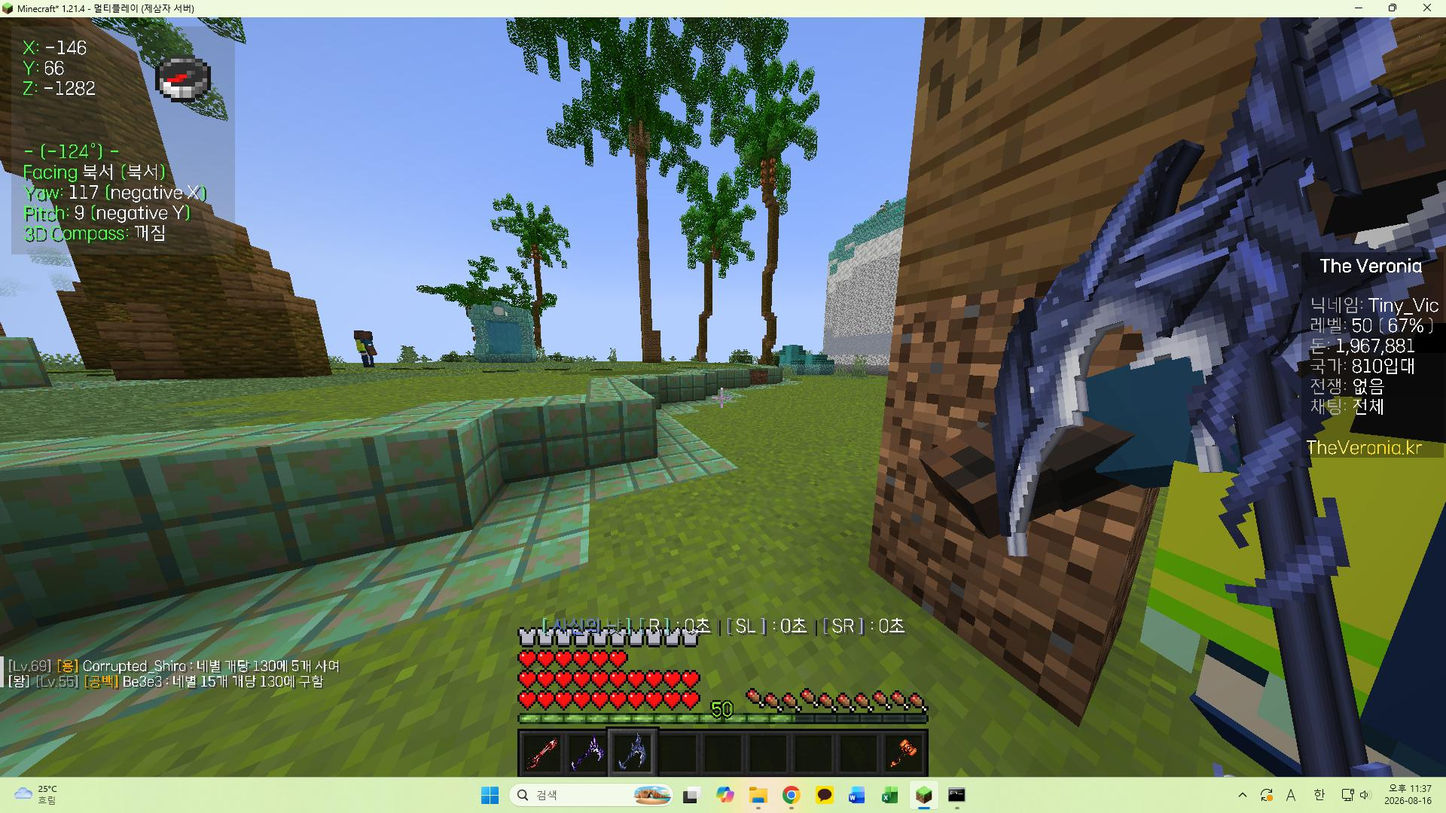Guardian: (1087, 361, 1282, 675), (1311, 455, 1445, 707), (1319, 406, 1405, 450)
